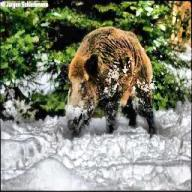boar: (64, 26, 156, 138)
